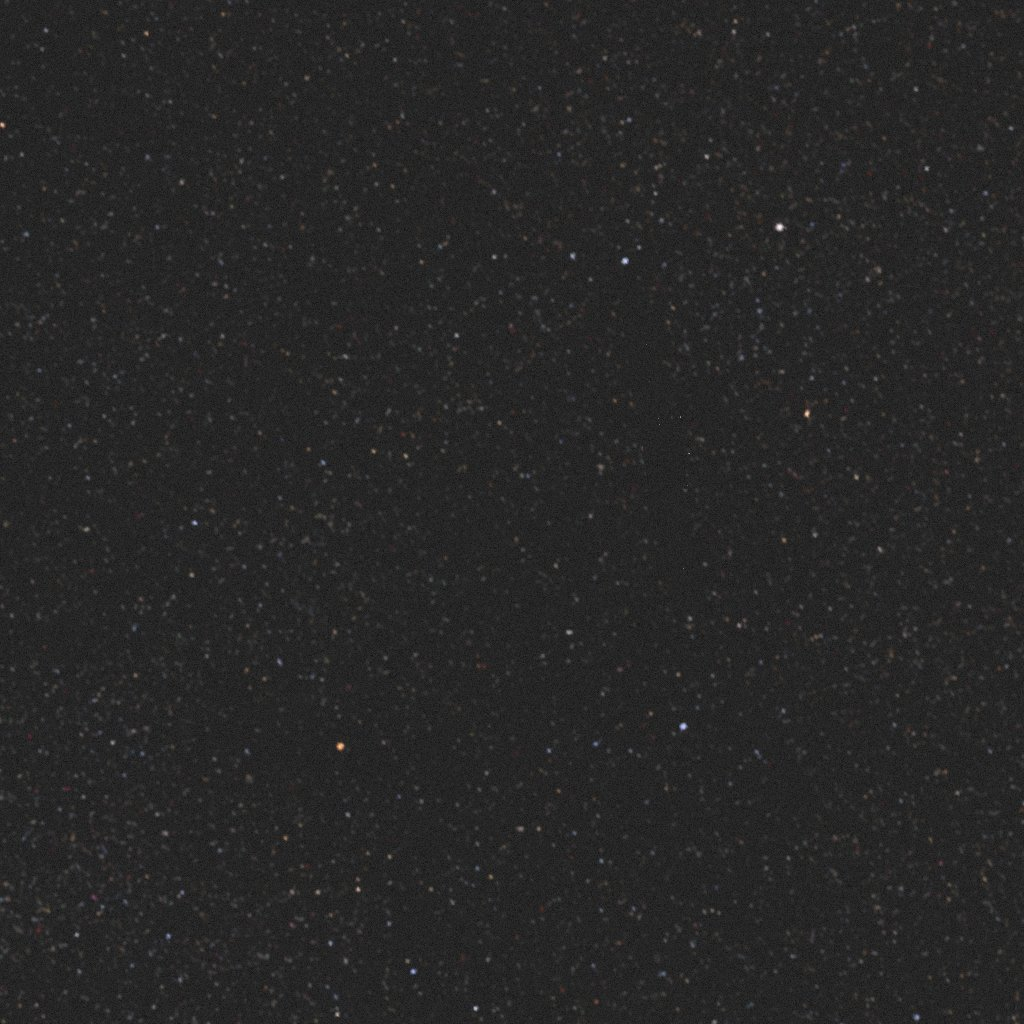smart_1: (620, 302, 705, 616)
